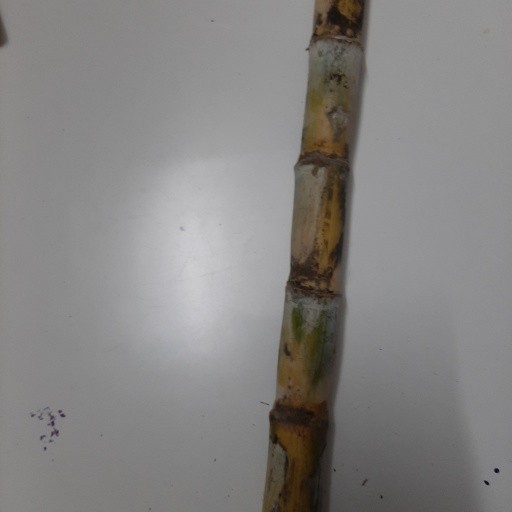Bud: (315, 276, 332, 293), (342, 26, 356, 40)
